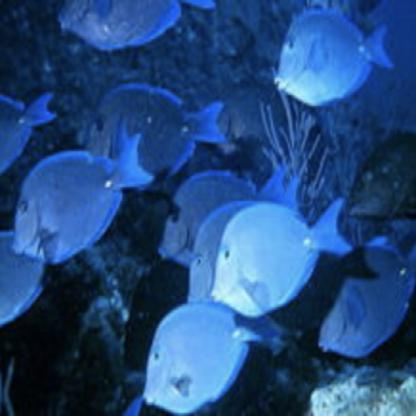surgeon: (13, 134, 158, 266), (143, 303, 302, 412), (211, 197, 351, 317), (273, 5, 395, 107), (59, 1, 217, 54)
